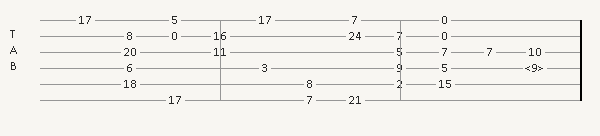0: (171, 30, 182, 42), (441, 30, 452, 42), (441, 14, 452, 26)
10: (528, 46, 546, 58)
11: (213, 46, 231, 58)
15: (438, 78, 456, 90)
16: (213, 30, 231, 42)
17: (78, 14, 96, 26), (168, 94, 186, 106), (258, 14, 276, 26)
18: (123, 78, 141, 90)
2: (396, 78, 407, 90)
20: (123, 46, 141, 58)
21: (348, 94, 366, 106)
24: (348, 30, 366, 42)
3: (261, 62, 272, 74)
5: (171, 14, 182, 26), (396, 46, 407, 58), (441, 62, 452, 74)
6: (126, 62, 137, 74)
7: (306, 94, 317, 106), (351, 14, 362, 26), (396, 30, 407, 42), (441, 46, 452, 58), (486, 46, 497, 58)
8: (126, 30, 137, 42), (306, 78, 317, 90)
9: (396, 62, 407, 74)
harmonic: (525, 62, 548, 74)
